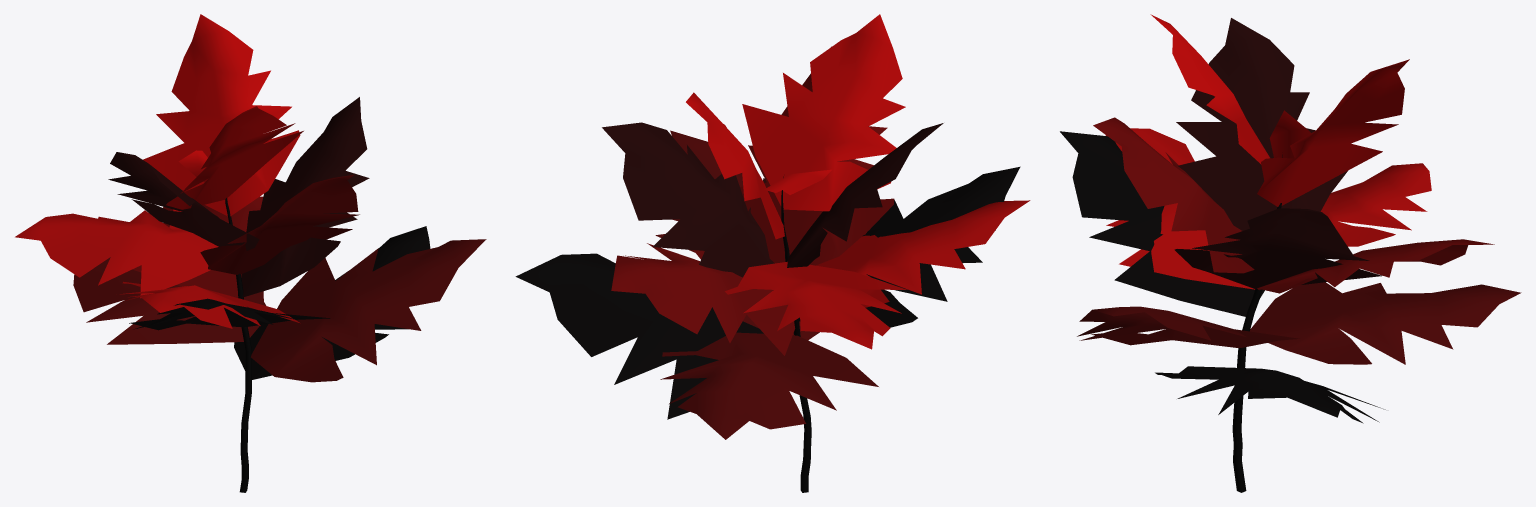
File: Fern Bracken.fbx
The picture shows the model from 3 angles, left to right: view 1: azimuth 30°, elevation 25°; view 2: azimuth 150°, elevation 25°; view 3: azimuth 270°, elevation 25°; orthographic projection. The views are drawn at different scales.
Visible parts, largest first — view 1: Bracken; view 2: Bracken; view 3: Bracken.
Boxes of the visible parts, bbox=[...] form: Bracken: bbox=[15, 14, 486, 492]; Bracken: bbox=[515, 14, 1030, 492]; Bracken: bbox=[1060, 14, 1521, 492].
Bounding box in the file's own units: 140 × 151 × 137.
